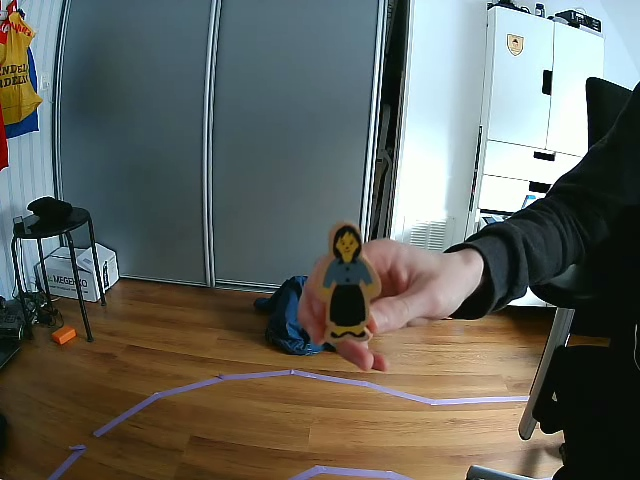mens: (313, 221, 382, 341)
